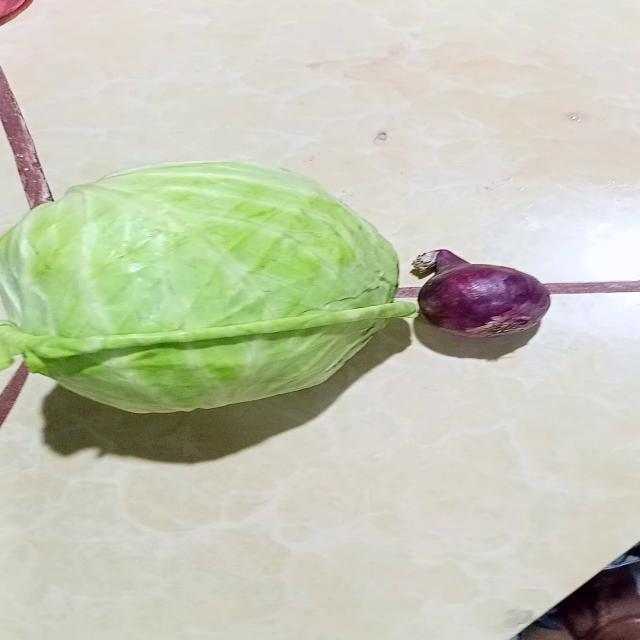cabbage: (0, 162, 417, 416)
onion: (404, 250, 550, 340)
